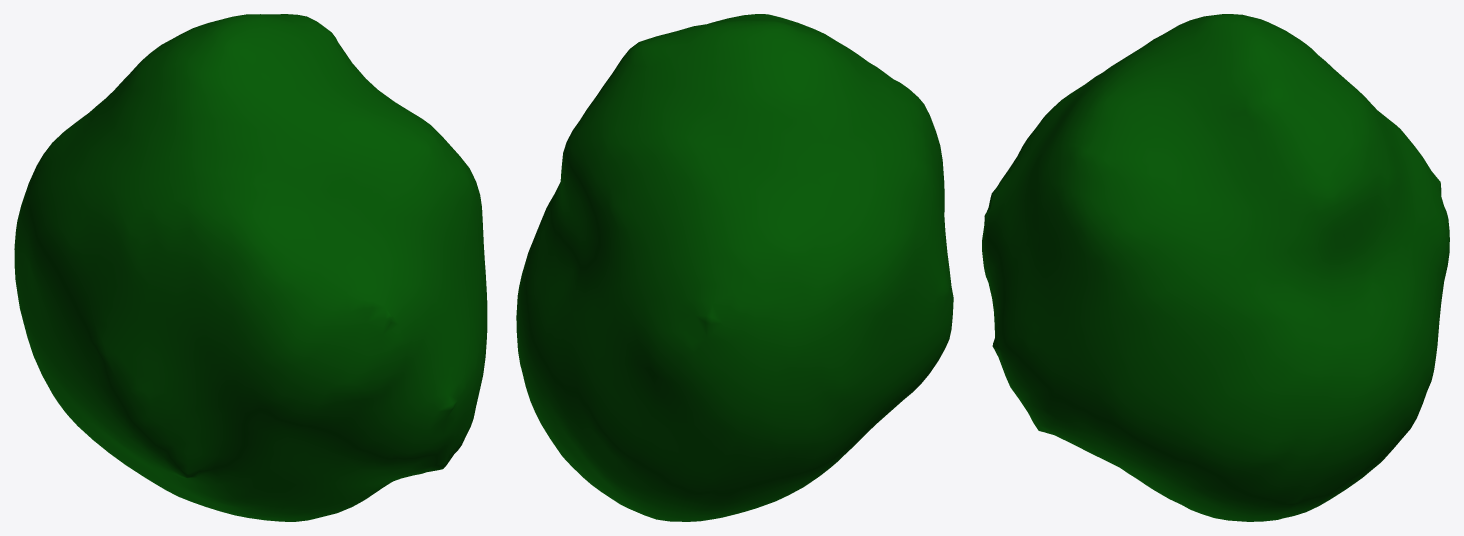
File: Lesion.obj
3 views of the same model, side by side, from view 1: azimuth 30°, elevation 25°; view 2: azimuth 150°, elevation 25°; view 3: azimuth 270°, elevation 25° (orthographic). The views are drawn at different scales.
Visible parts, largest first — view 1: grp1; view 2: grp1; view 3: grp1.
Boxes of the visible parts, box(x1,y1,x2,y2) form: grp1: box(14, 14, 487, 521); grp1: box(516, 14, 953, 521); grp1: box(982, 14, 1449, 521).
Bounding box in the file's own units: 19.76 × 24.27 × 22.52.
